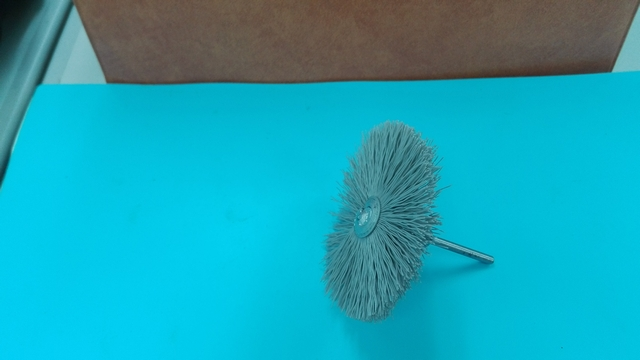TOOL: (275, 113, 566, 341)
